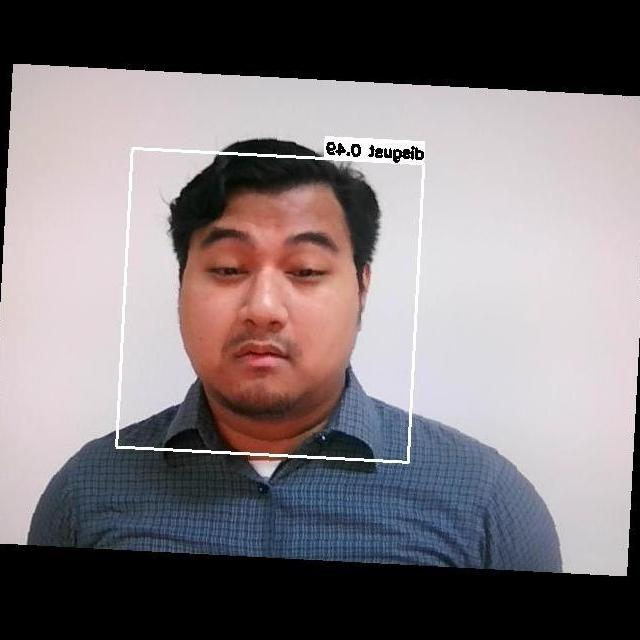Fear: (189, 203, 357, 384)
